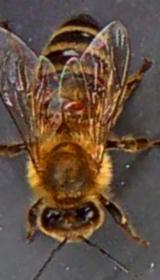varroa_mite: (58, 94, 88, 124)
